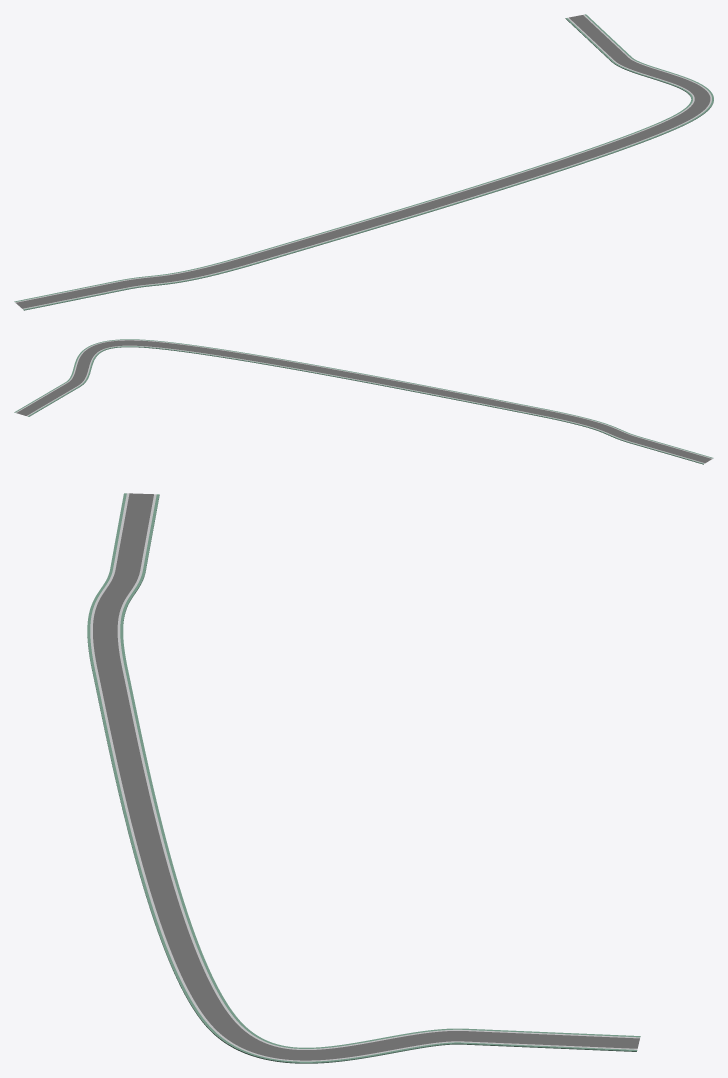
Rendered from road_roam_from_stage_harbour_sprint.glb.
3 views of the same model, one above another, from view 1: azimuth 30°, elevation 25°; view 2: azimuth 150°, elevation 25°; view 3: azimuth 270°, elevation 25° (orthographic). The views are drawn at different scales.
Visible parts, largest first — view 1: road; view 2: road; view 3: road.
Part boxes in pixels (left/top/right/bottom): road: left=14, top=14, right=713, bottom=310; road: left=14, top=339, right=713, bottom=464; road: left=87, top=493, right=640, bottom=1063.
Size of the model in its own units: 451 by 0.32 by 185.
